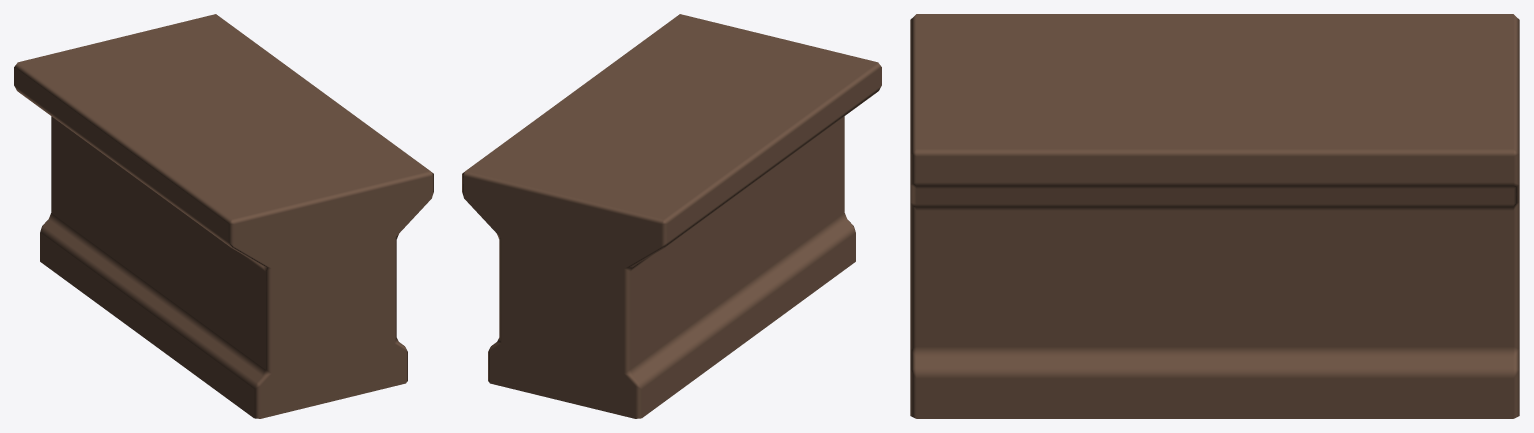
File: Tablon.glb
3 renders of one model, left to right at view 1: azimuth 30°, elevation 25°; view 2: azimuth 150°, elevation 25°; view 3: azimuth 270°, elevation 25°, orthographic. The views are drawn at different scales.
Visible parts, largest first — view 1: Tablon; view 2: Tablon; view 3: Tablon.
Part boxes in pixels (x1=…): Tablon: x1=14, y1=14, x2=433, y2=418; Tablon: x1=462, y1=14, x2=881, y2=418; Tablon: x1=910, y1=14, x2=1519, y2=418.
Bounding box in the file's own units: 1.09 × 1.03 × 2.
